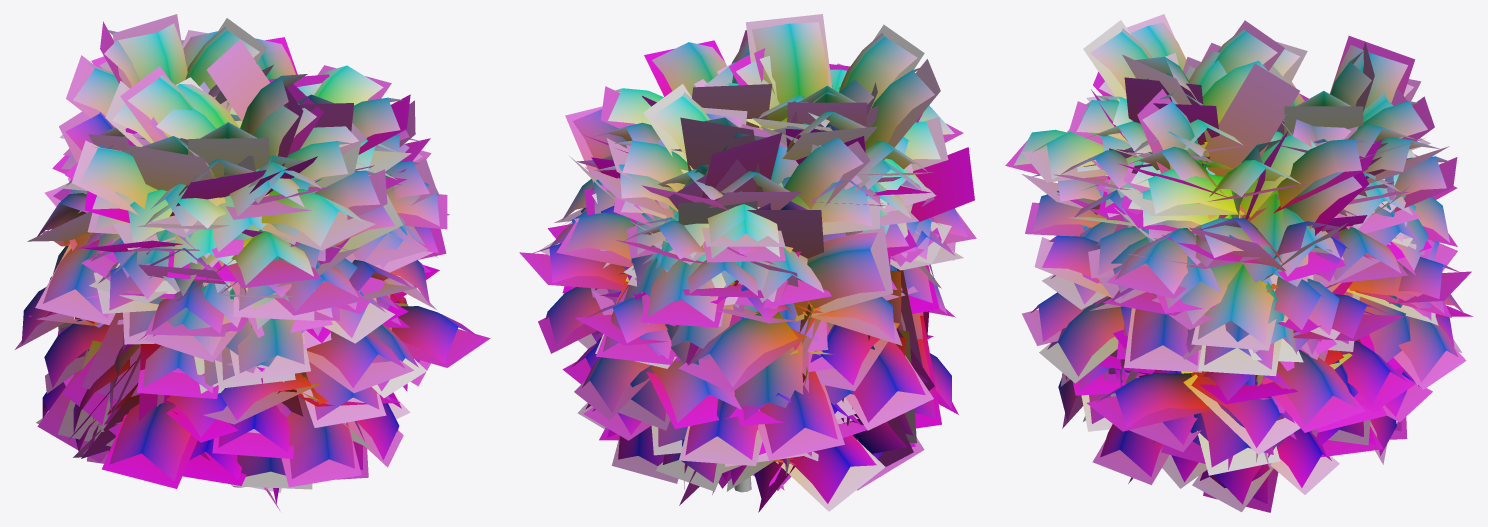
The model's file is elm_01_2.fbx.
3 views of the same model, side by side, from view 1: azimuth 30°, elevation 25°; view 2: azimuth 150°, elevation 25°; view 3: azimuth 270°, elevation 25° (orthographic). The views are drawn at different scales.
Visible parts, largest first — view 1: elm_rought_leaves_01_2_lod_0, elm_rought_leaves_01_2_shadow; view 2: elm_rought_leaves_01_2_lod_0, elm_rought_leaves_01_2_shadow; view 3: elm_rought_leaves_01_2_lod_0, elm_rought_leaves_01_2_shadow.
Part boxes in pixels (left/top/right/bottom): elm_rought_leaves_01_2_lod_0: left=21, top=23, right=480, bottom=503; elm_rought_leaves_01_2_shadow: left=15, top=14, right=490, bottom=510; elm_rought_leaves_01_2_lod_0: left=531, top=22, right=967, bottom=504; elm_rought_leaves_01_2_shadow: left=519, top=14, right=976, bottom=512; elm_rought_leaves_01_2_lod_0: left=1014, top=22, right=1464, bottom=504; elm_rought_leaves_01_2_shadow: left=1005, top=14, right=1472, bottom=512.
Size of what is drawn, in the model's own units: 11.39 by 12.52 by 12.34.
